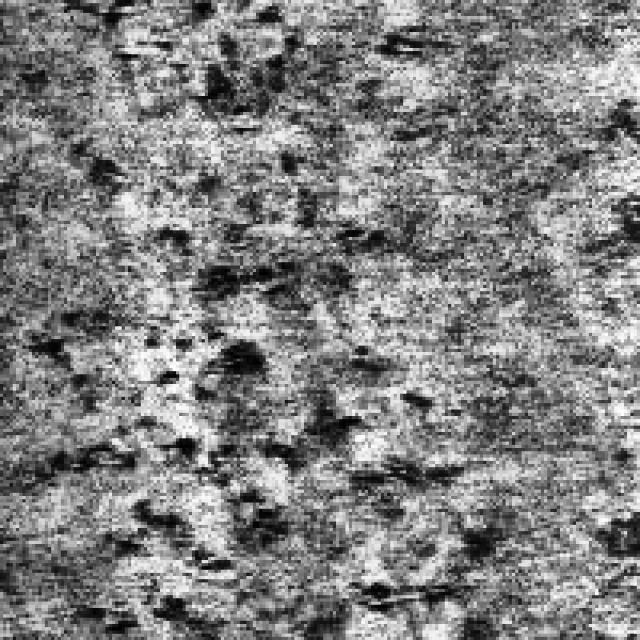Crazing: (58, 141, 352, 634)
